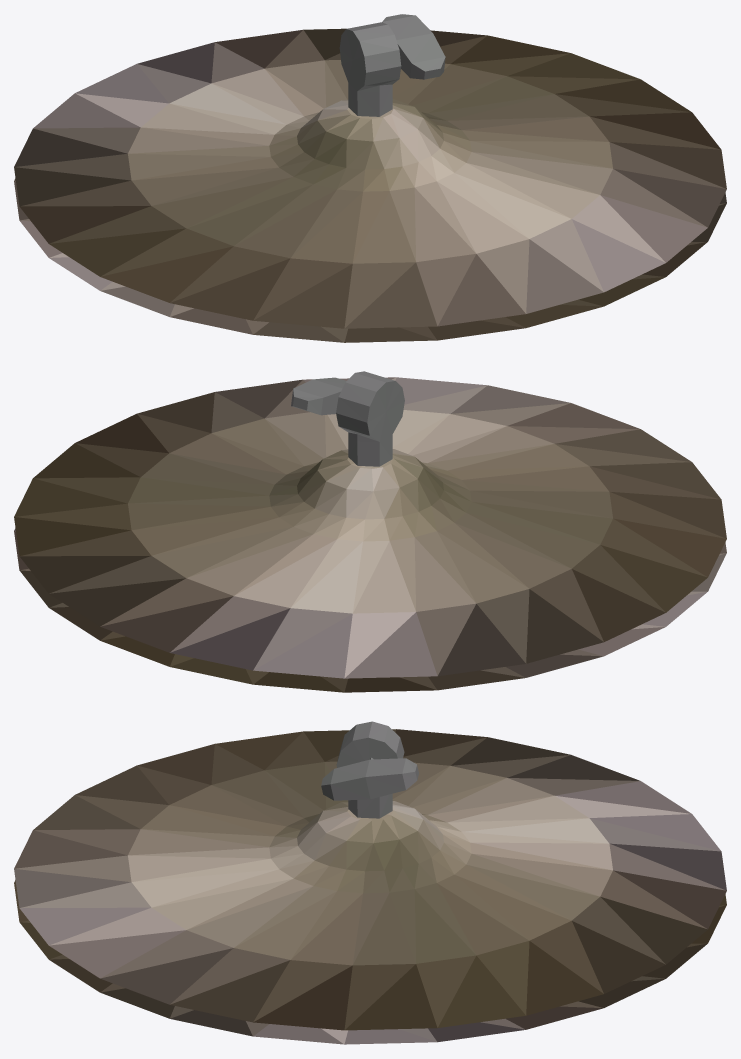
The model's file is cymbal1-head.fbx.
The picture shows the model from 3 angles, top to bottom: view 1: azimuth 30°, elevation 25°; view 2: azimuth 150°, elevation 25°; view 3: azimuth 270°, elevation 25°; orthographic projection.
Parts seen in each view (by area): view 1: polySurface792; view 2: polySurface792; view 3: polySurface792.
Part boxes in pixels (x1,y1,x2,y2): polySurface792: (14,14,726,342); polySurface792: (14,371,726,692); polySurface792: (14,721,726,1044).
Size of the model in its own units: 42.3 by 15.27 by 42.3.
